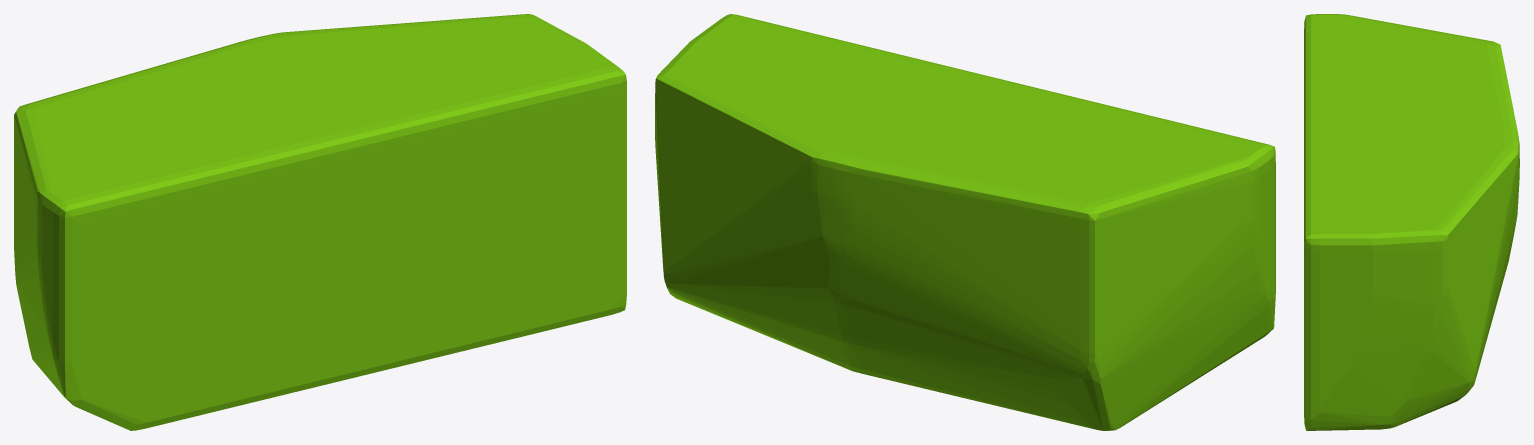
The model's file is right_shoulder_pitch_link_part_4.obj.
The picture shows the model from 3 angles, left to right: view 1: azimuth 30°, elevation 25°; view 2: azimuth 150°, elevation 25°; view 3: azimuth 270°, elevation 25°; orthographic projection. The views are drawn at different scales.
Size of the model in its own units: 0.0673 by 0.0274 by 0.0271.
